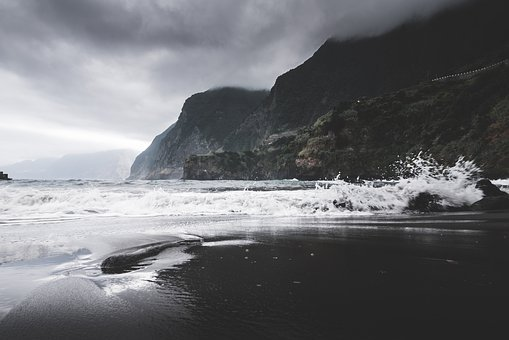mountain: (167, 36, 493, 168)
sea: (8, 182, 504, 340)
sky: (6, 7, 309, 126)
